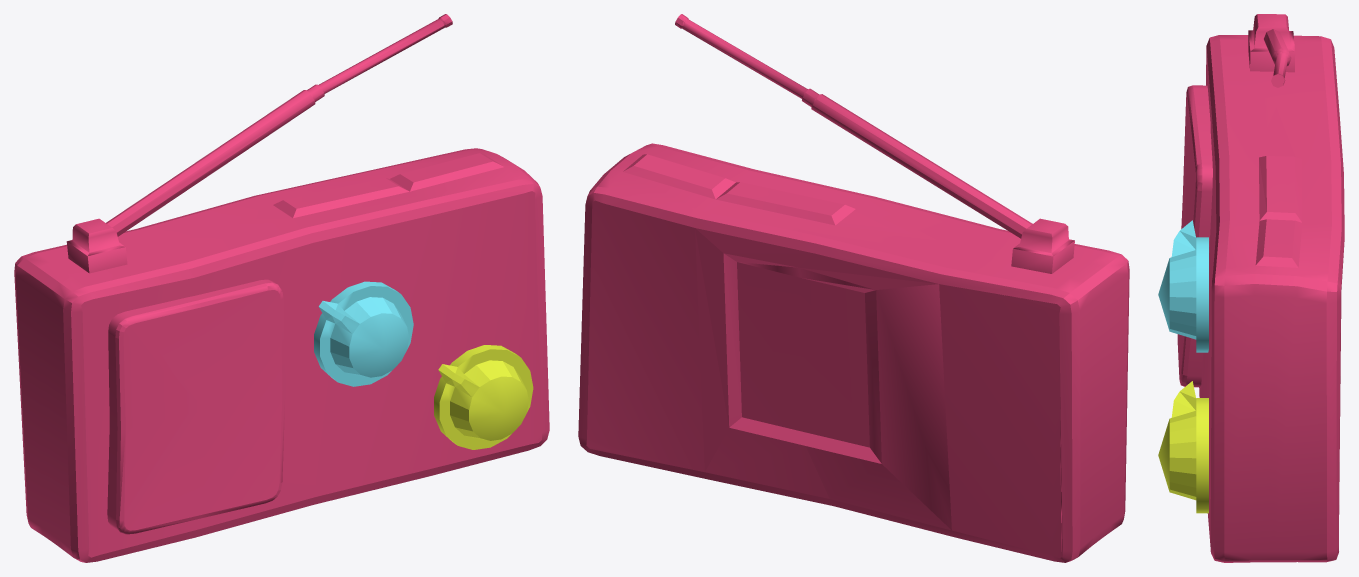
The model's file is Radio.fbx.
3 renders of one model, left to right at view 1: azimuth 30°, elevation 25°; view 2: azimuth 150°, elevation 25°; view 3: azimuth 270°, elevation 25°, orthographic. The views are drawn at different scales.
Visible parts, largest first — view 1: Radio, Dial1, Dial2; view 2: Radio; view 3: Radio, Dial2, Dial1.
Boxes of the visible parts, box(x1,y1,x2,y2) form: Radio: box(14, 14, 549, 562); Dial1: box(314, 281, 413, 386); Dial2: box(434, 345, 533, 449); Radio: box(578, 14, 1129, 562); Radio: box(1177, 14, 1344, 562); Dial2: box(1158, 381, 1208, 513); Dial1: box(1158, 220, 1208, 352).
Bounding box in the file's own units: 51.49 × 43.64 × 16.02.
